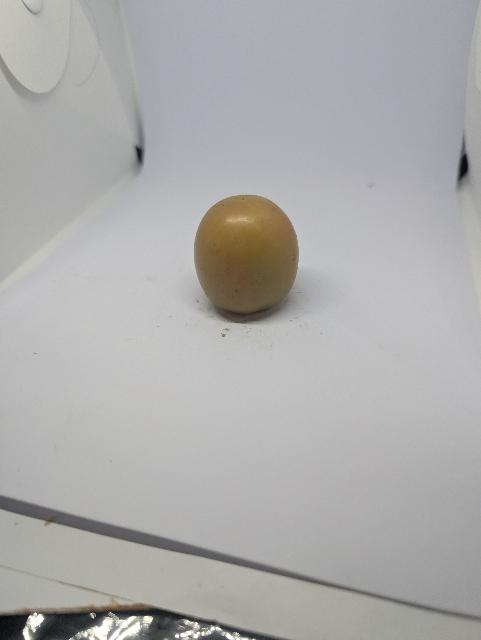breaker: (182, 190, 306, 322)
